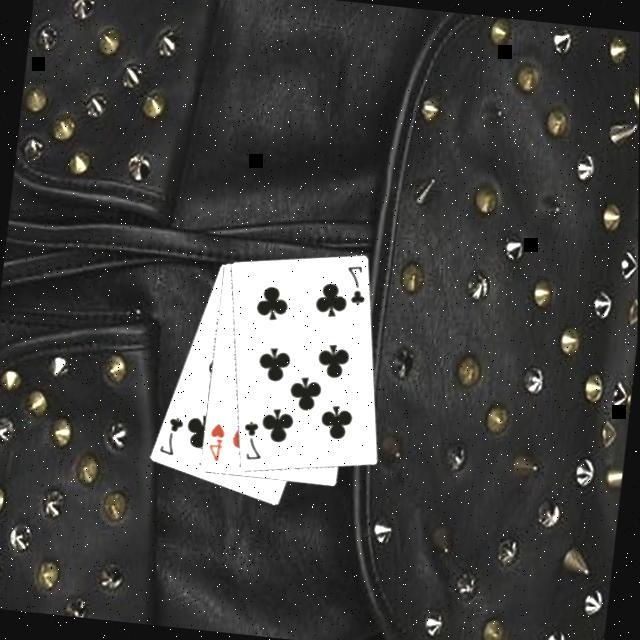4H: (205, 421, 229, 467)
7C: (155, 413, 187, 462), (238, 419, 269, 467), (341, 264, 372, 312)
